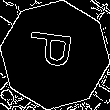P_E: (28, 33, 82, 77)
